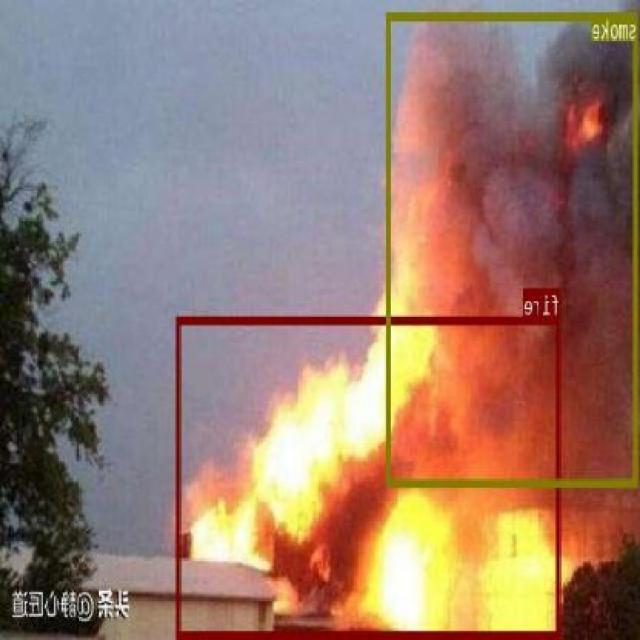Fire: (178, 314, 562, 636)
Smoke: (388, 11, 638, 487)
